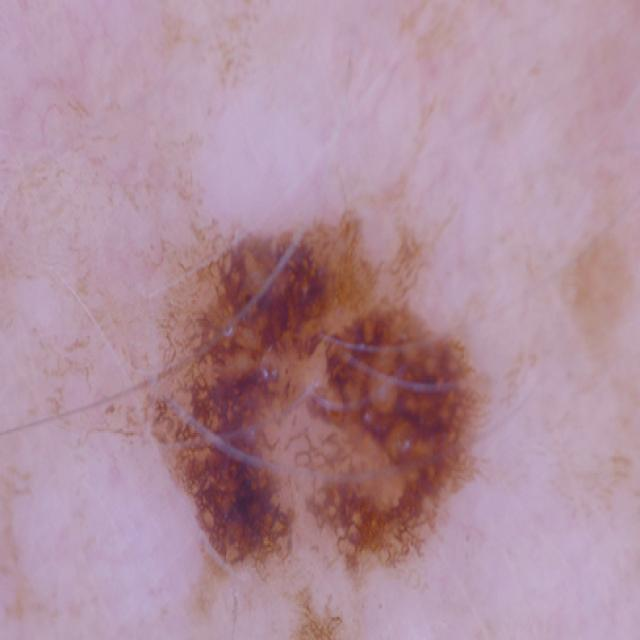Keratosis: (161, 207, 517, 640)
